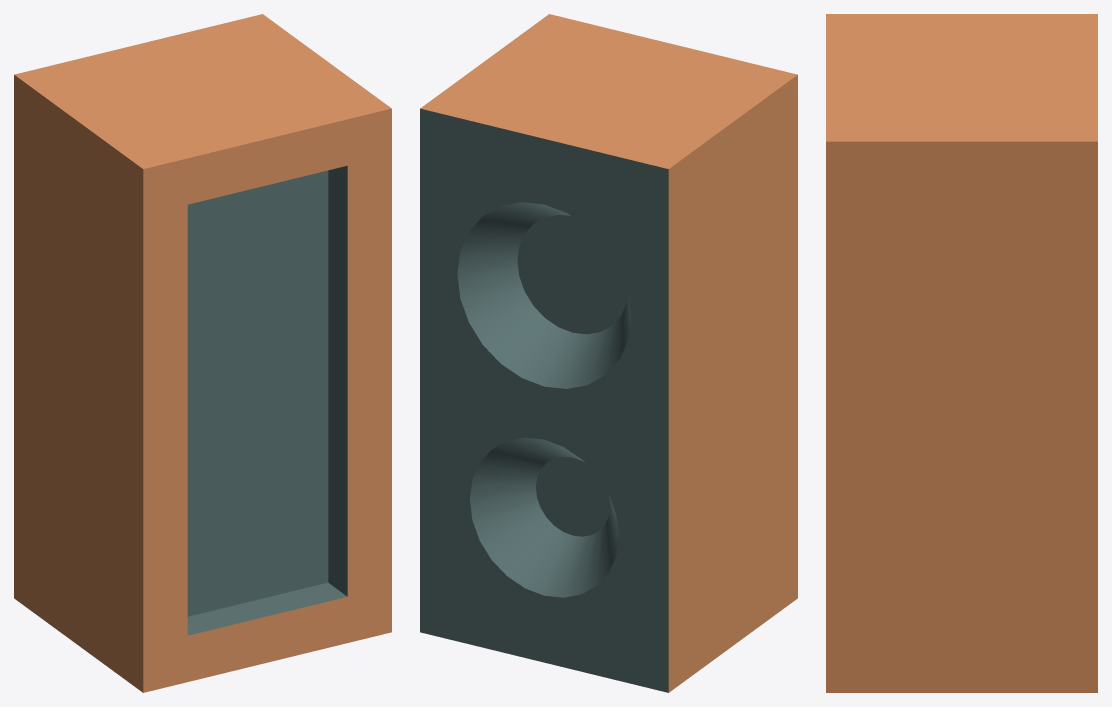
Rendered from speakerSmall.fbx.
The picture shows the model from 3 angles, left to right: view 1: azimuth 30°, elevation 25°; view 2: azimuth 150°, elevation 25°; view 3: azimuth 270°, elevation 25°; orthographic projection. The views are drawn at different scales.
Parts seen in each view (by area): view 1: speakerSmall; view 2: speakerSmall; view 3: speakerSmall.
Part boxes in pixels (x1,y1,x2,y2): speakerSmall: [14, 14, 391, 692]; speakerSmall: [420, 14, 797, 692]; speakerSmall: [826, 14, 1097, 692].
Size of the model in its own units: 1.48 by 2.98 by 1.33.
